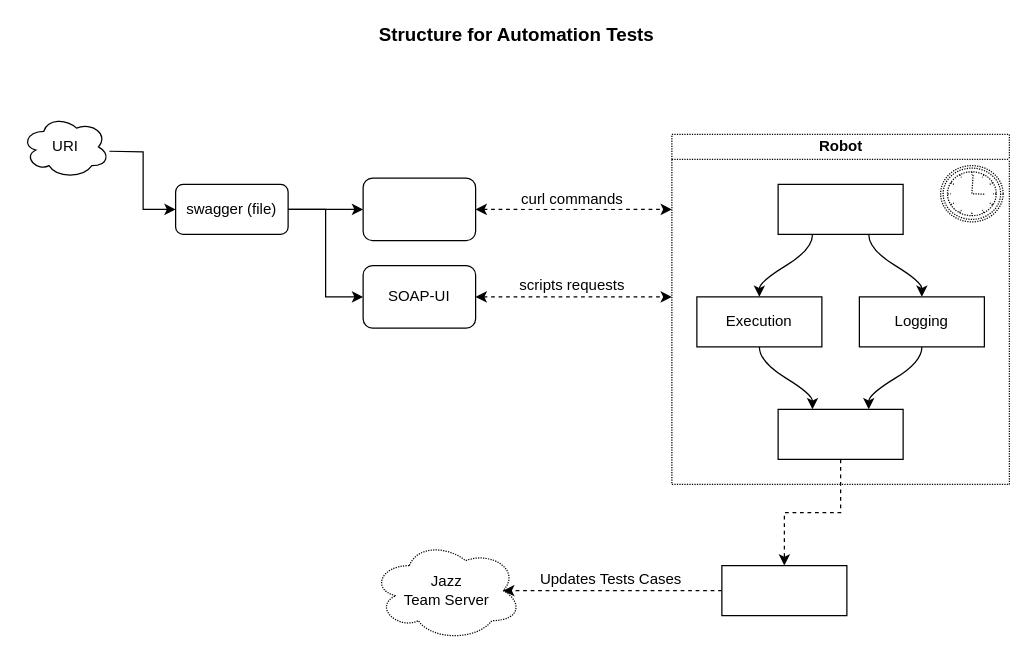
Some shapes in this 1031 by 663 pixel diagram are drawn without their labels. The centre of each missing label's shape, as x and y in pixels:
Catch Requests: the point at 840,208
Jazz pre-script: the point at 840,433
Script Execution: the point at 784,590
SWAGGER-UI: the point at 419,209
